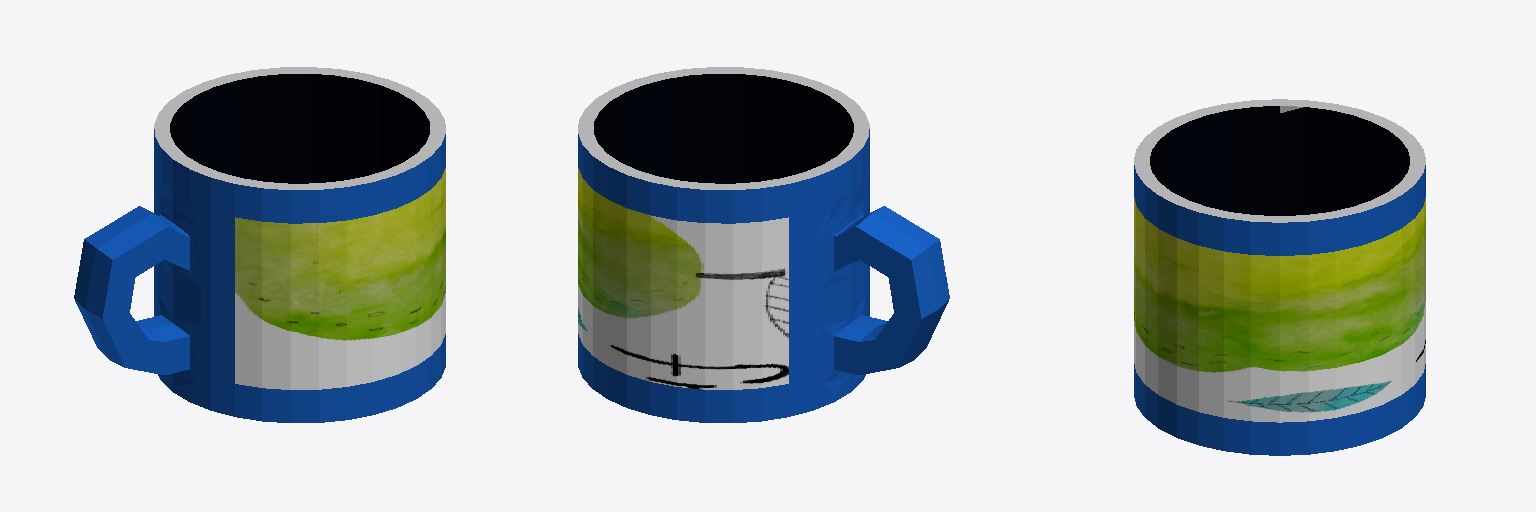
The picture shows the model from 3 angles: view 1: azimuth 30°, elevation 25°; view 2: azimuth 150°, elevation 25°; view 3: azimuth 270°, elevation 25°; orthographic projection.
Visible parts, largest first — view 1: Mug1_mug_rest, Mug1_face, Mug1_inside, Mug1_mouth; view 2: Mug1_mug_rest, Mug1_face, Mug1_inside, Mug1_mouth; view 3: Mug1_face, Mug1_inside, Mug1_mug_rest, Mug1_mouth.
Part boxes in pixels (x1,y1,x2,y2): Mug1_mug_rest: (74, 129, 445, 422); Mug1_face: (235, 168, 445, 389); Mug1_inside: (170, 74, 429, 183); Mug1_mouth: (154, 67, 445, 189); Mug1_mug_rest: (578, 129, 949, 422); Mug1_face: (578, 168, 788, 389); Mug1_inside: (594, 74, 853, 183); Mug1_mouth: (578, 67, 869, 189); Mug1_face: (1134, 198, 1425, 422); Mug1_inside: (1150, 106, 1409, 215); Mug1_mug_rest: (1134, 165, 1425, 455); Mug1_mouth: (1134, 99, 1425, 222).
Size of the model in its own units: 0.674 by 0.4393 by 0.4998.
6 materials, 1 textured.